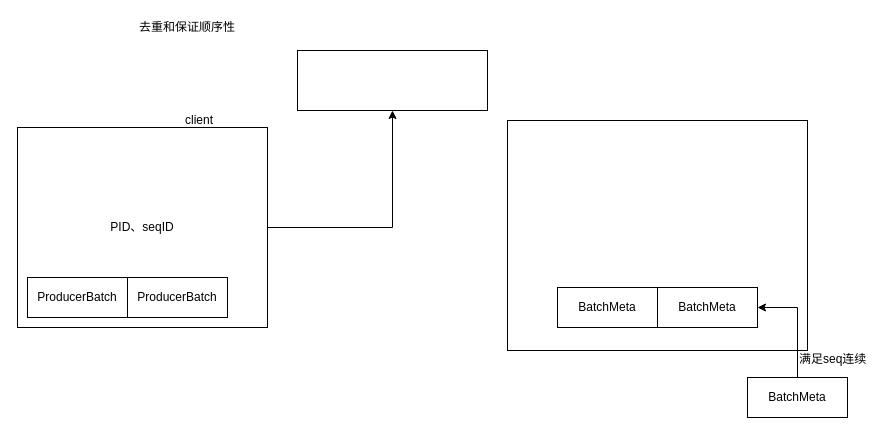
The diagram is 895 pixels wide and 435 high, and some of its shapes have lost their labels. Each missing label, with the box of its shape:
ZK分配PID段给broker: (296, 50, 488, 110)
检查是否是重复BathMeta，并检查seq连续性: (506, 120, 808, 350)
